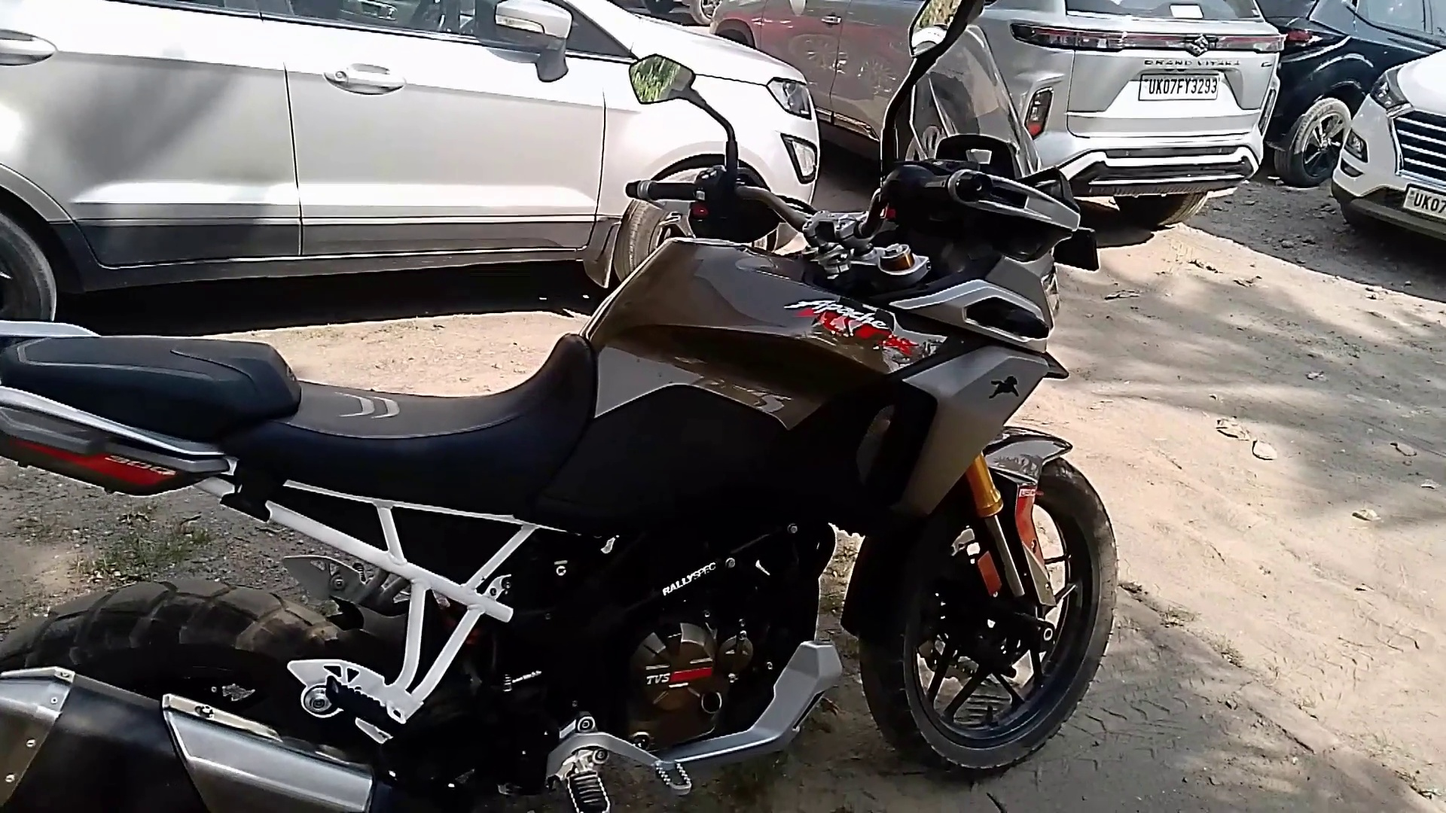engine: (593, 574, 791, 760)
oil_cap: (691, 679, 732, 721)
oil_marker: (618, 719, 663, 755)
